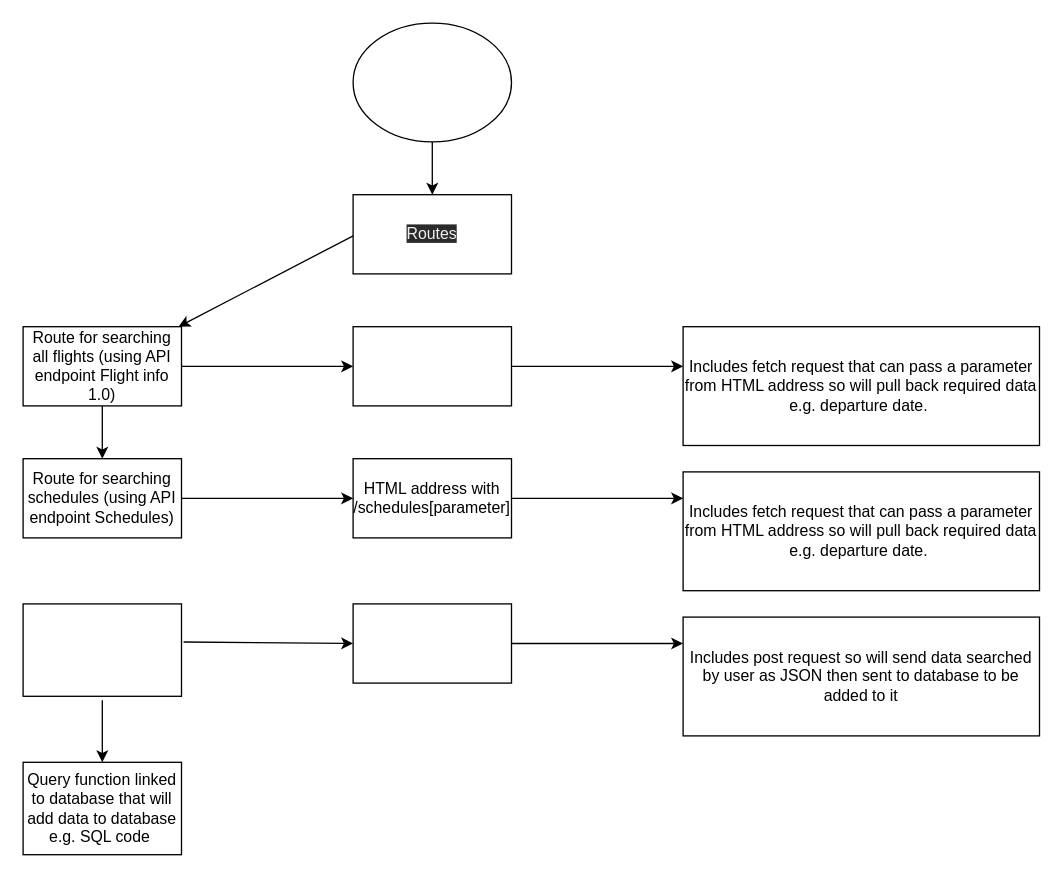
Image size: 1063x878. Some labels were removed from this diagram. The centre of each missing label's shape, as x and y in pixels:
Backend server: point (432, 82)
HTML address with /allflights/[parameter]: point (432, 365)
HTML address with /savesearch: point (432, 643)
Route for posting saved data from user searches to a database for retrival later: point (102, 649)
